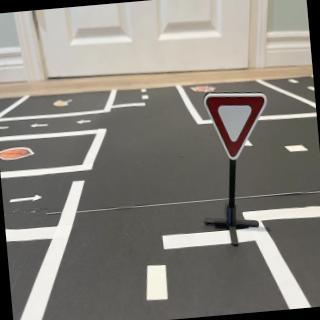road_oneway: (8, 191, 47, 207), (76, 117, 95, 128), (30, 122, 52, 131), (1, 124, 11, 132)
sign_yield: (204, 90, 273, 164)
